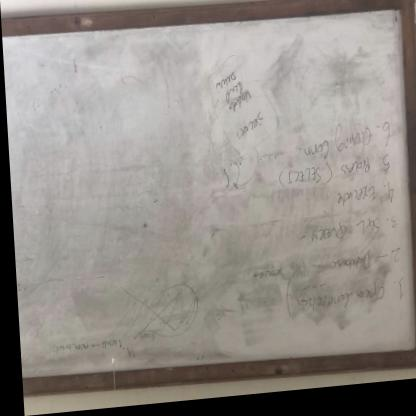Handwritten text: (290, 288, 386, 329), (295, 220, 385, 253), (277, 164, 370, 191), (296, 133, 376, 163), (321, 253, 376, 285), (328, 189, 380, 216)
Whiteboard: (3, 0, 416, 398)
